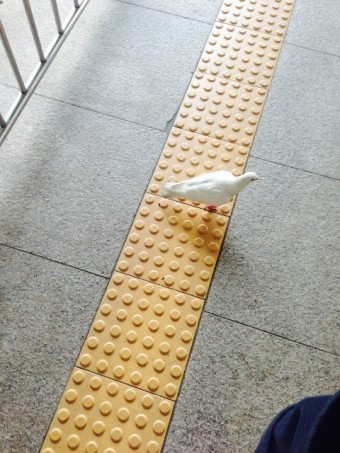warningBlock: (94, 275, 192, 389), (135, 199, 229, 308), (62, 374, 175, 453), (164, 131, 247, 216), (184, 76, 260, 142), (207, 28, 277, 95), (220, 4, 295, 36)
